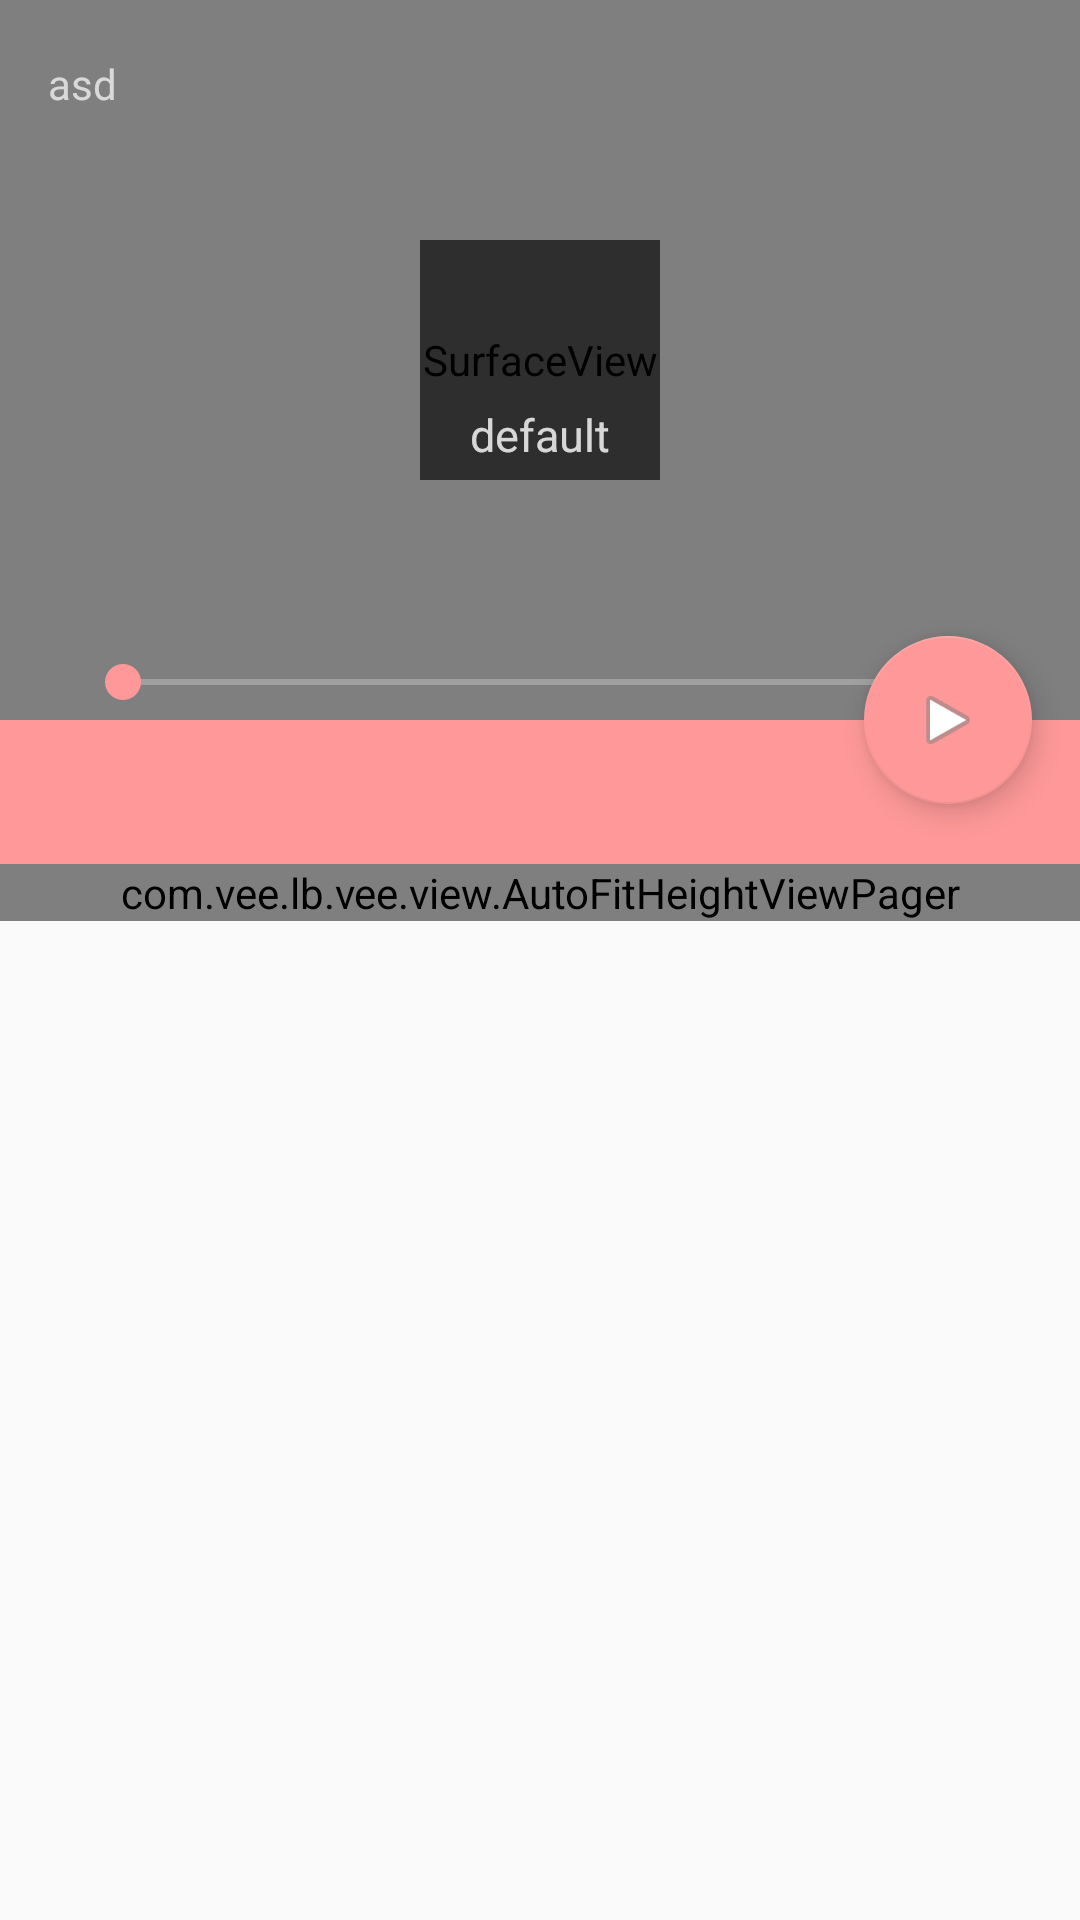

Icons on this 1080w x 1920h Android screen, each with the point to tap as point (x, y):
play: point (948, 720)
